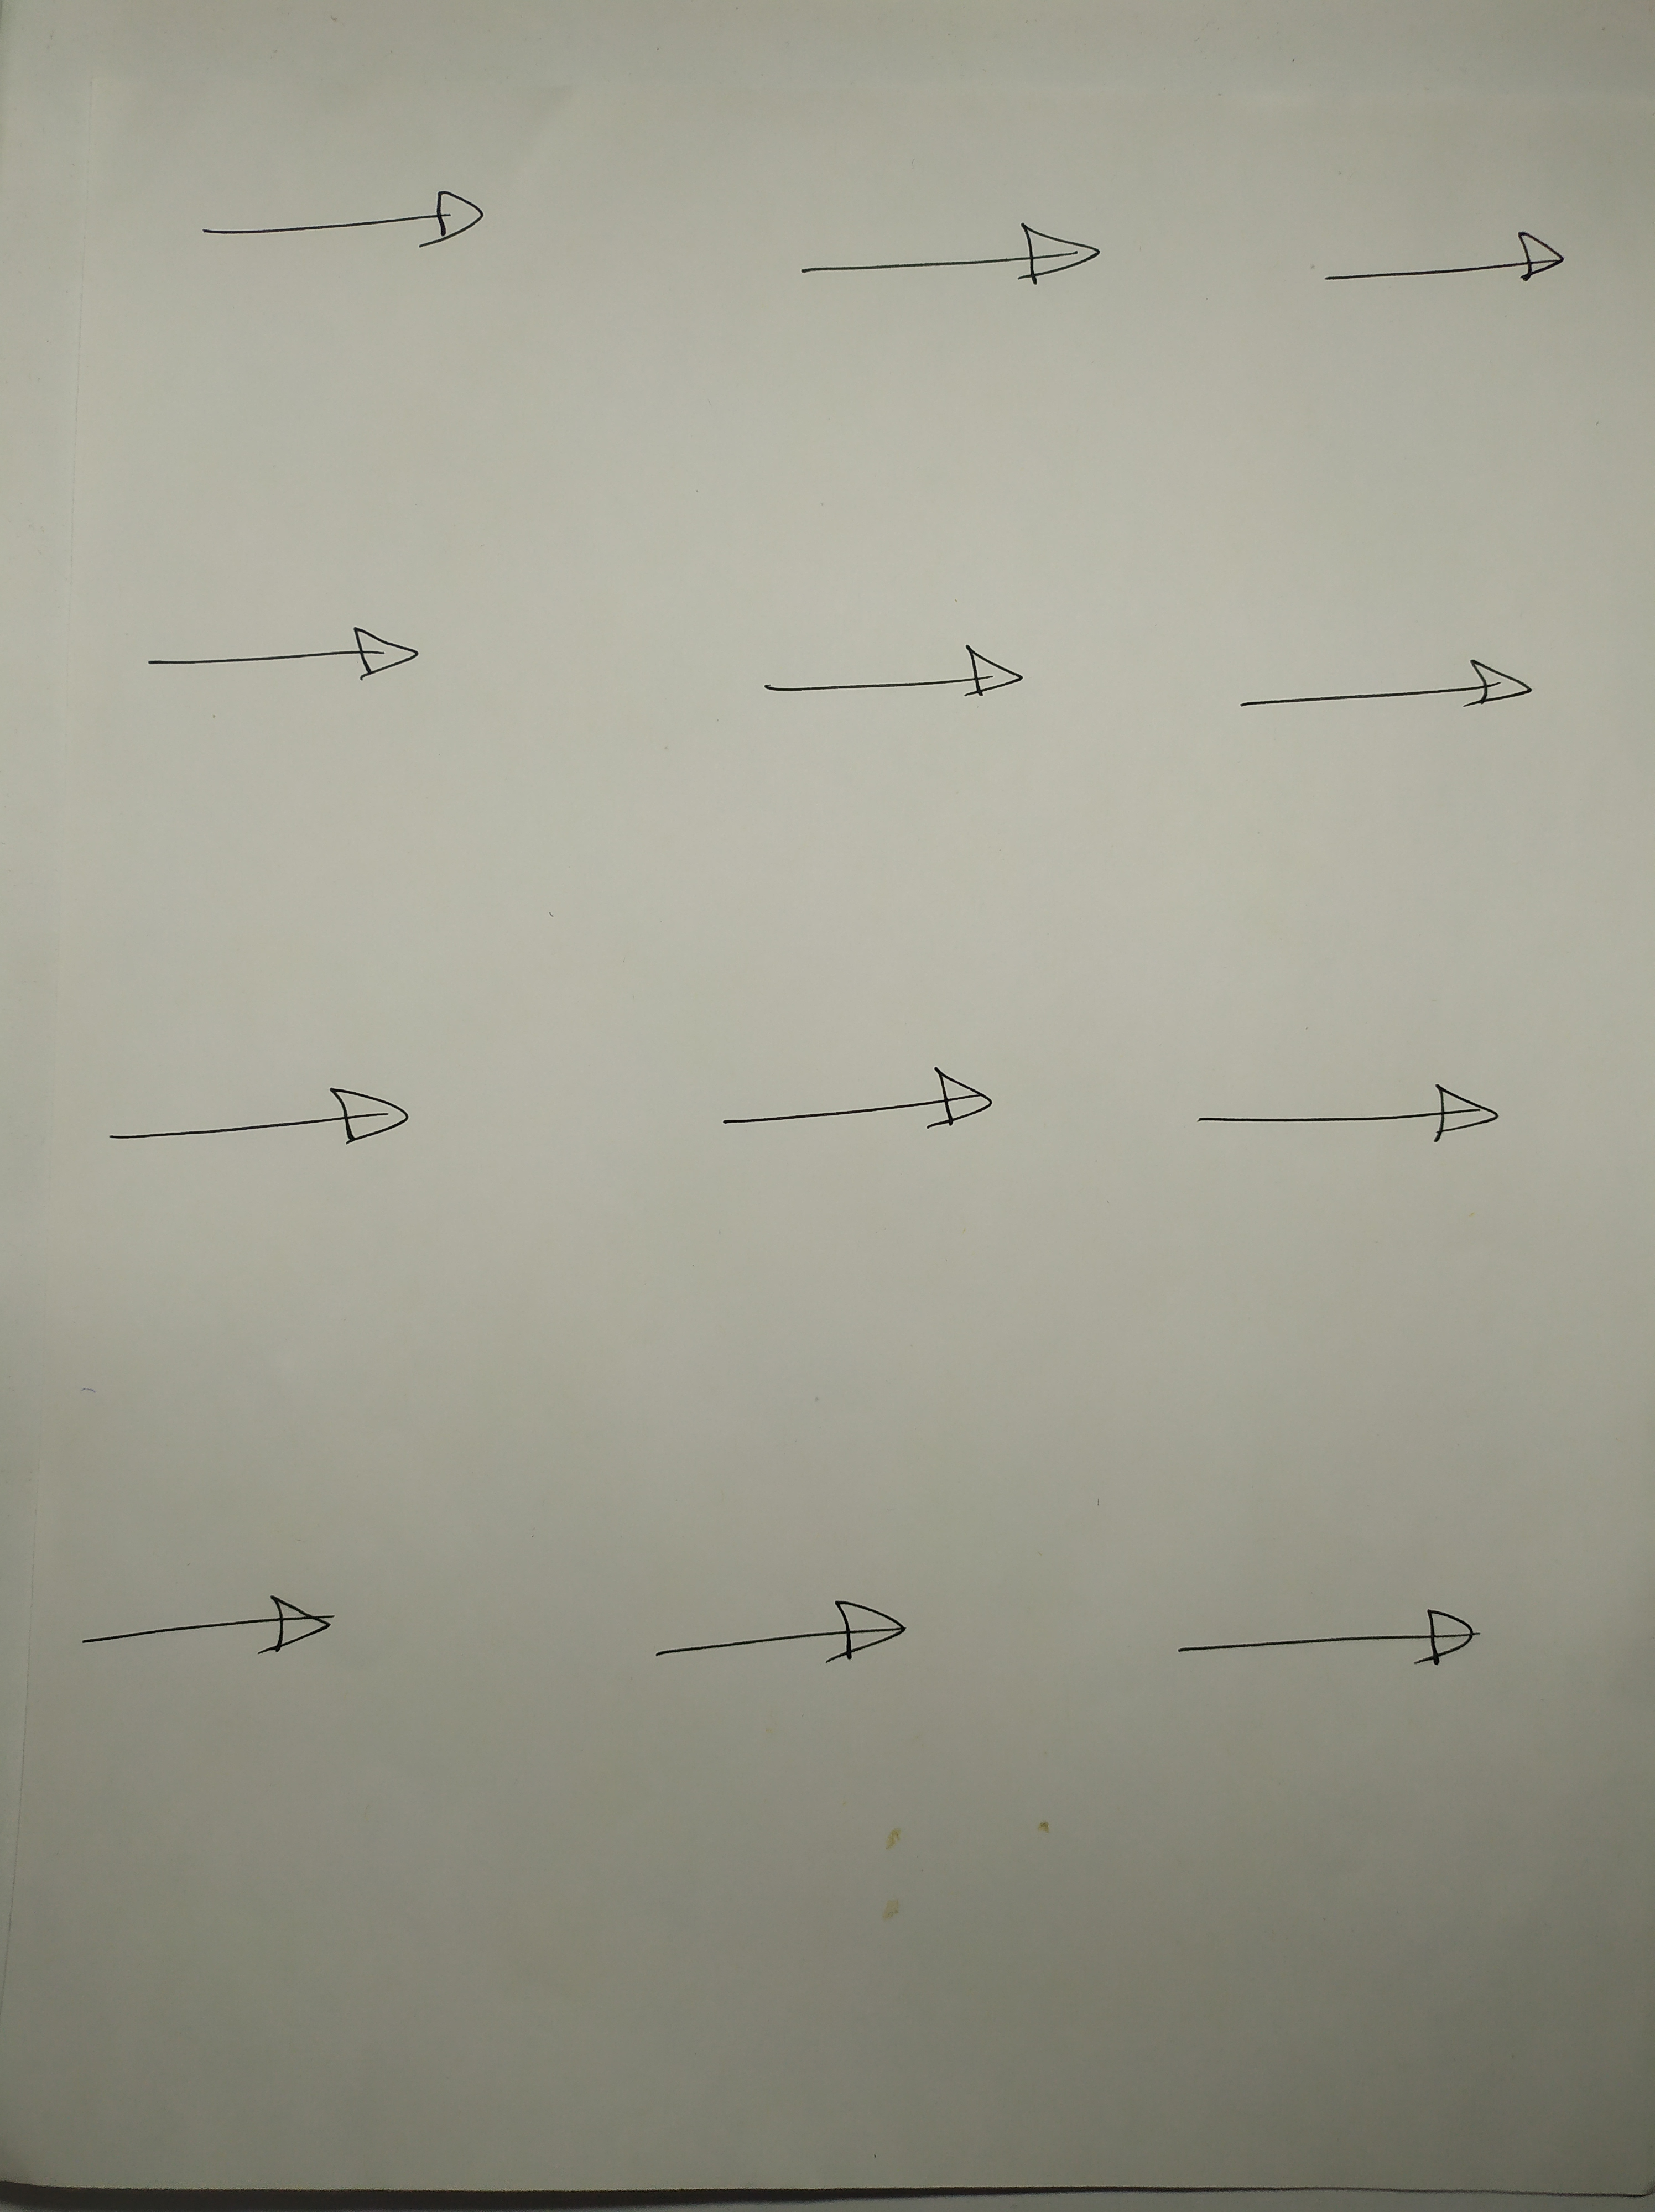arrow_line_right: (749, 198, 1151, 313), (715, 613, 1052, 737), (56, 1583, 407, 1692), (90, 1067, 442, 1173), (176, 170, 508, 281), (1215, 643, 1547, 751), (104, 608, 459, 709), (1300, 196, 1577, 315), (607, 1585, 920, 1689), (1149, 1599, 1509, 1687), (1172, 1067, 1526, 1152), (685, 1060, 1024, 1147)
